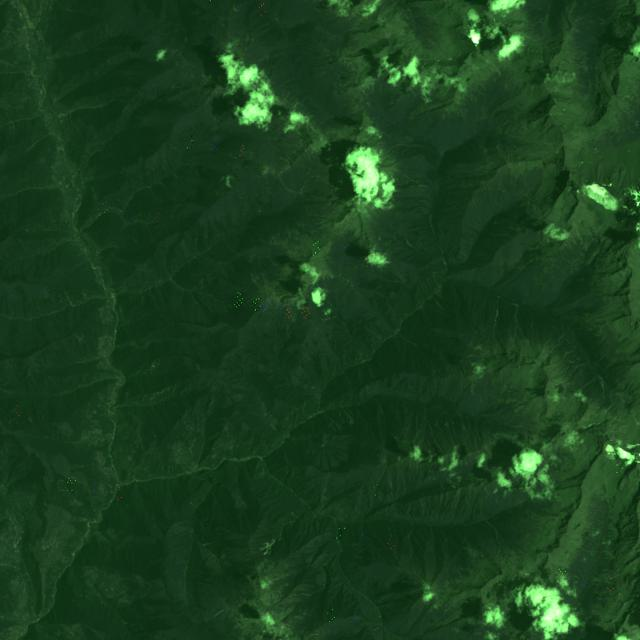landslides: (559, 377, 598, 413), (515, 305, 540, 359), (493, 299, 502, 349), (280, 179, 299, 196), (359, 85, 376, 103), (366, 326, 384, 342), (561, 361, 575, 381), (573, 224, 585, 244), (567, 364, 580, 382), (208, 610, 224, 621), (455, 489, 462, 511), (568, 232, 578, 247), (484, 482, 493, 498), (433, 295, 443, 309), (599, 375, 605, 398), (528, 461, 537, 474), (80, 517, 94, 525)
